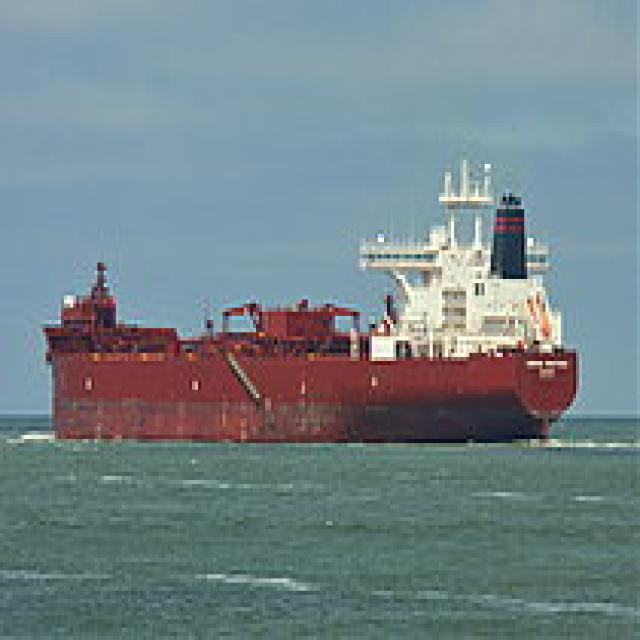Tanker: (34, 148, 579, 447)
